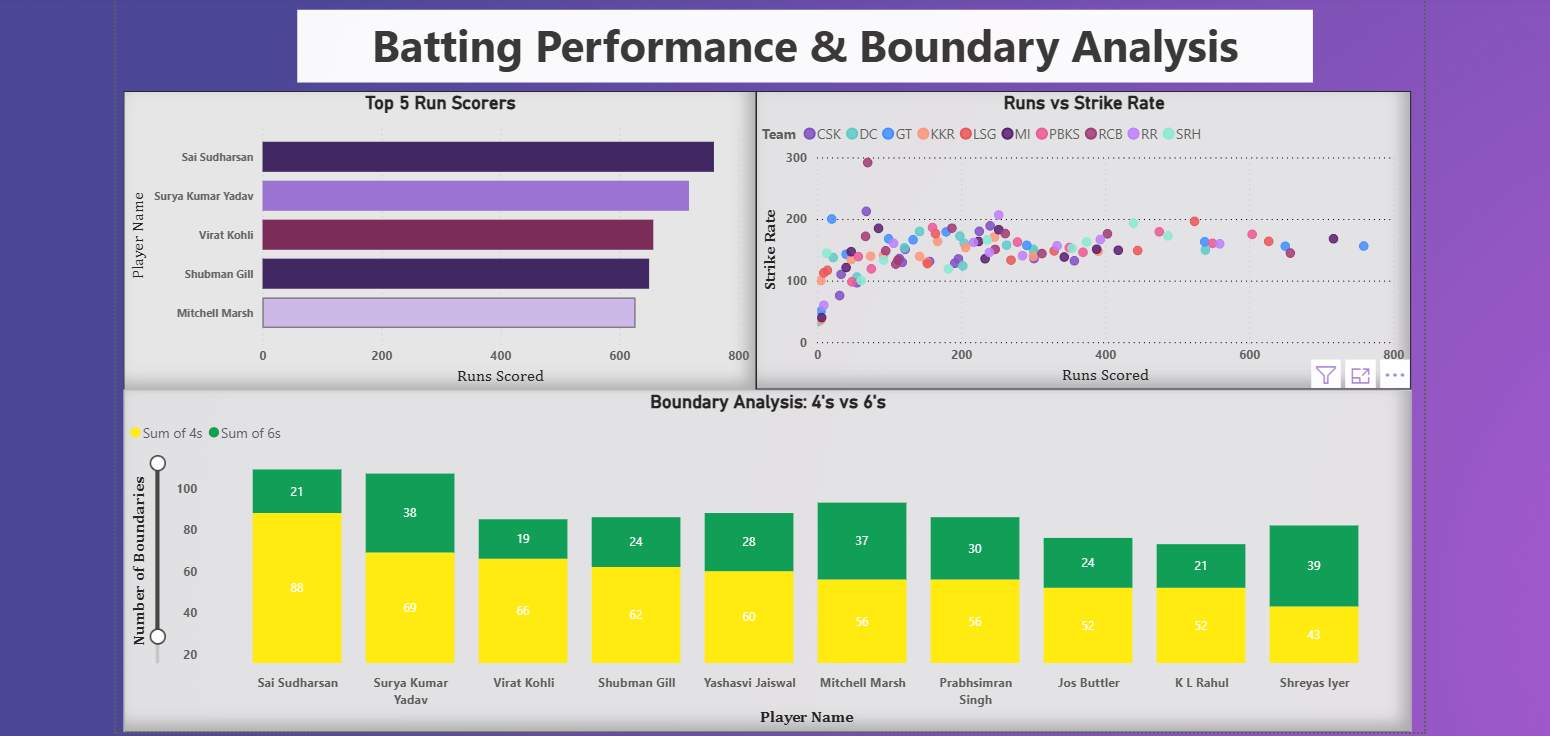

The page's visual inventory and layout, read from the dashboard file:
{"tool":"powerbi","page":{"name":"Page 1","canvas":[1280,720],"ordinal":0},"visuals":[{"type":"barChart","title":"Top 5 Run Scorers","fields":{"Category":["Sheet1.Player Name"],"Y":["Sum(Sheet1.Runs Scored)"]},"box":[5.8,85.6,410.5,292.8],"z":0},{"type":"scatterChart","title":"Runs vs Strike Rate","fields":{"X":["Sum(Sheet1.Runs Scored)"],"Y":["Sum(Sheet1.Batting Strike Rate)"],"Category":["Sheet1.Player Name"],"Series":["Sheet1.Team"]},"box":[423.1,86.6,488.3,291.8],"z":1000},{"type":"columnChart","title":"Boundary Analysis: 4''s vs 6''s","fields":{"Category":["Sheet1.Player Name"],"Y":["Sum(Sheet1.4s)","Sum(Sheet1.6s)"]},"box":[6.2,385.7,912.4,334.3],"z":2000}]}

Visuals, with their boxes on the page's 1280x720 design canvas (x1, y1, x2, y2). These are canvas units, not pixel positions in the 1550x736 screenshot, which may show the page scaled, cropped or inside an application window:
"Top 5 Run Scorers" barChart: bbox=[6, 86, 416, 378]
"Runs vs Strike Rate" scatterChart: bbox=[423, 87, 911, 378]
"Boundary Analysis: 4''s vs 6''s" columnChart: bbox=[6, 386, 919, 720]
